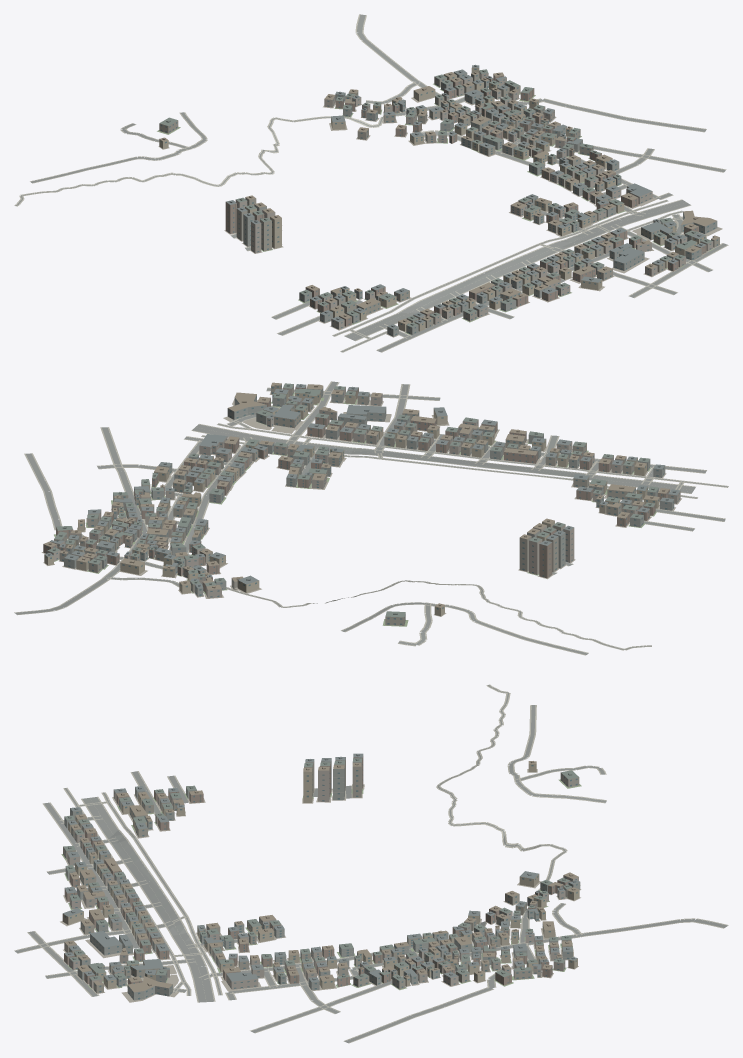
3 views of the same model, one above another, from view 1: azimuth 30°, elevation 25°; view 2: azimuth 150°, elevation 25°; view 3: azimuth 270°, elevation 25° (orthographic). The views are drawn at different scales.
Parts seen in each view (by area): view 1: context-osm-buildings, context-osm-roads, context-osm-sidewalks, context-building-plinths; view 2: context-osm-buildings, context-osm-roads, context-osm-sidewalks, context-building-plinths; view 3: context-osm-buildings, context-osm-roads, context-osm-sidewalks, context-building-plinths.
Part boxes in pixels (x1=…): context-osm-buildings: x1=159, y1=64, x2=719, y2=336; context-osm-roads: x1=15, y1=14, x2=727, y2=352; context-osm-sidewalks: x1=14, y1=14, x2=728, y2=352; context-building-plinths: x1=157, y1=78, x2=722, y2=337; context-osm-buildings: x1=43, y1=382, x2=680, y2=625; context-osm-roads: x1=15, y1=381, x2=728, y2=654; context-osm-sidewalks: x1=14, y1=381, x2=728, y2=655; context-building-plinths: x1=41, y1=392, x2=681, y2=626; context-osm-buildings: x1=62, y1=753, x2=580, y2=1000; context-osm-roads: x1=15, y1=685, x2=727, y2=1042; context-osm-sidewalks: x1=14, y1=684, x2=728, y2=1043; context-building-plinths: x1=60, y1=769, x2=581, y2=1002.
Bounding box in the file's own units: 814 × 56.95 × 748.
